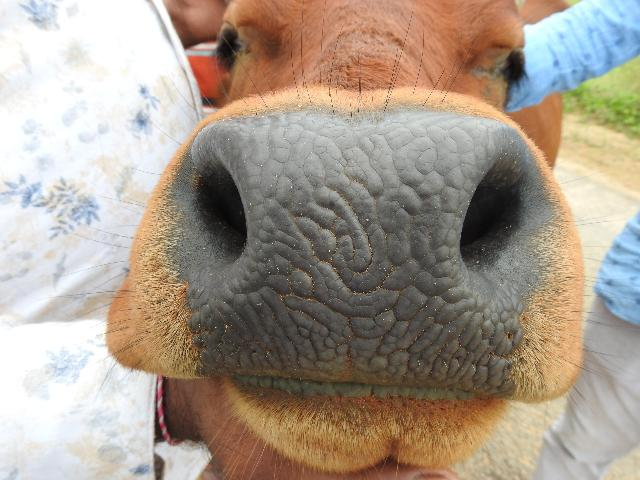Muzzle: (194, 110, 508, 376)
